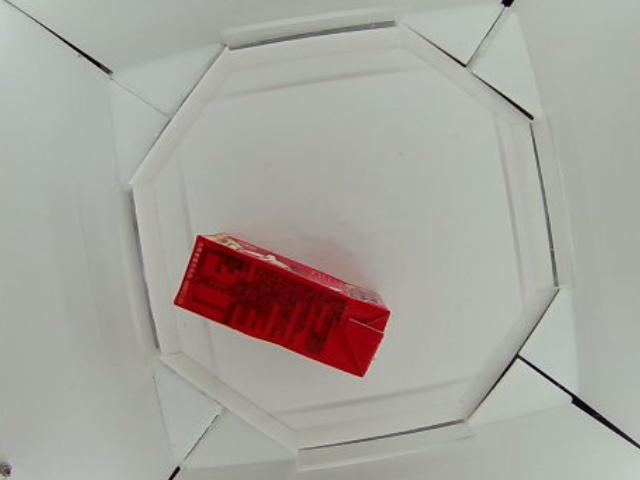Bottle: (176, 231, 394, 376)
